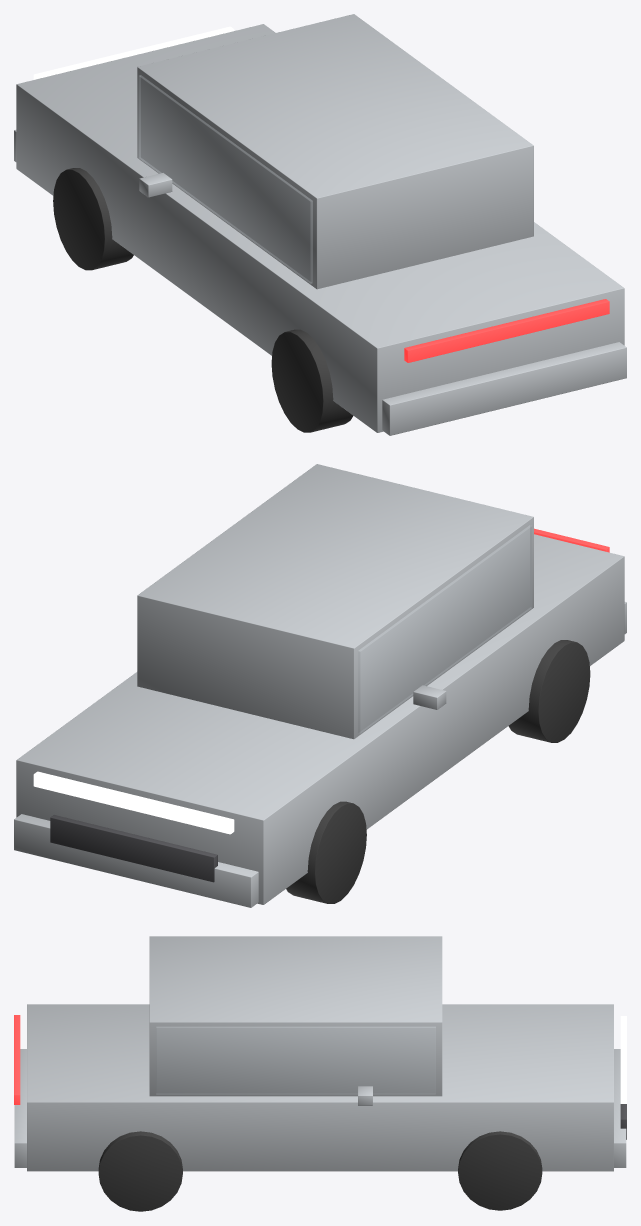
Rendered from vehicle.glb.
3 renders of one model, top to bottom at view 1: azimuth 30°, elevation 25°; view 2: azimuth 150°, elevation 25°; view 3: azimuth 270°, elevation 25°, orthographic. The views are drawn at different scales.
Visible parts, largest first — view 1: BODY_Roof, BODY_Main, GLASS_Greenhouse, BODY_Bumpers_Rear, WHEEL_RR_Tire, WHEEL_FR_Tire, LIGHT_Taillights, LIGHT_Headlights, BODY_Mirror_R; view 2: BODY_Roof, BODY_Main, GLASS_Greenhouse, BODY_Bumpers_Front, WHEEL_RR_Tire, WHEEL_FR_Tire, BODY_Grille, LIGHT_Headlights, BODY_Mirror_R; view 3: BODY_Main, BODY_Roof, GLASS_Greenhouse, WHEEL_RL_Tire, WHEEL_FL_Tire, BODY_Bumpers_Rear, BODY_Bumpers_Front, LIGHT_Taillights, LIGHT_Headlights.
Boxes of the visible parts, x1=… form: BODY_Roof: x1=137, y1=14, x2=533, y2=289; BODY_Main: x1=16, y1=24, x2=624, y2=432; GLASS_Greenhouse: x1=138, y1=75, x2=312, y2=283; BODY_Bumpers_Rear: x1=382, y1=342, x2=626, y2=435; WHEEL_RR_Tire: x1=271, y1=329, x2=353, y2=432; WHEEL_FR_Tire: x1=53, y1=168, x2=133, y2=270; LIGHT_Taillights: x1=404, y1=299, x2=609, y2=362; LIGHT_Headlights: x1=33, y1=26, x2=234, y2=79; BODY_Mirror_R: x1=139, y1=173, x2=172, y2=197; BODY_Roof: x1=137, y1=464, x2=533, y2=739; BODY_Main: x1=16, y1=534, x2=624, y2=904; GLASS_Greenhouse: x1=358, y1=525, x2=532, y2=733; BODY_Bumpers_Front: x1=14, y1=814, x2=258, y2=907; WHEEL_RR_Tire: x1=508, y1=640, x2=590, y2=742; WHEEL_FR_Tire: x1=286, y1=801, x2=366, y2=903; BODY_Grille: x1=50, y1=815, x2=217, y2=882; LIGHT_Headlights: x1=33, y1=771, x2=234, y2=834; BODY_Mirror_R: x1=413, y1=685, x2=446, y2=709; BODY_Main: x1=27, y1=1004, x2=613, y2=1171; BODY_Roof: x1=149, y1=936, x2=442, y2=1096; GLASS_Greenhouse: x1=156, y1=1027, x2=435, y2=1094; WHEEL_RL_Tire: x1=98, y1=1131, x2=182, y2=1211; WHEEL_FL_Tire: x1=458, y1=1131, x2=542, y2=1210; BODY_Bumpers_Rear: x1=14, y1=1049, x2=26, y2=1167; BODY_Bumpers_Front: x1=614, y1=1049, x2=626, y2=1167; LIGHT_Taillights: x1=14, y1=1015, x2=20, y2=1104; LIGHT_Headlights: x1=620, y1=1016, x2=626, y2=1103.
Size of the model in its own units: 2.22 by 1.57 by 4.86.
